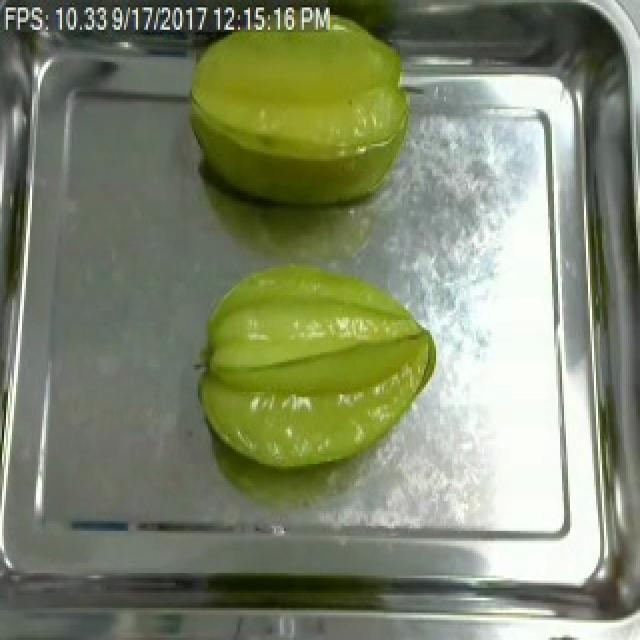fruit: (184, 248, 444, 479), (178, 2, 418, 201)
